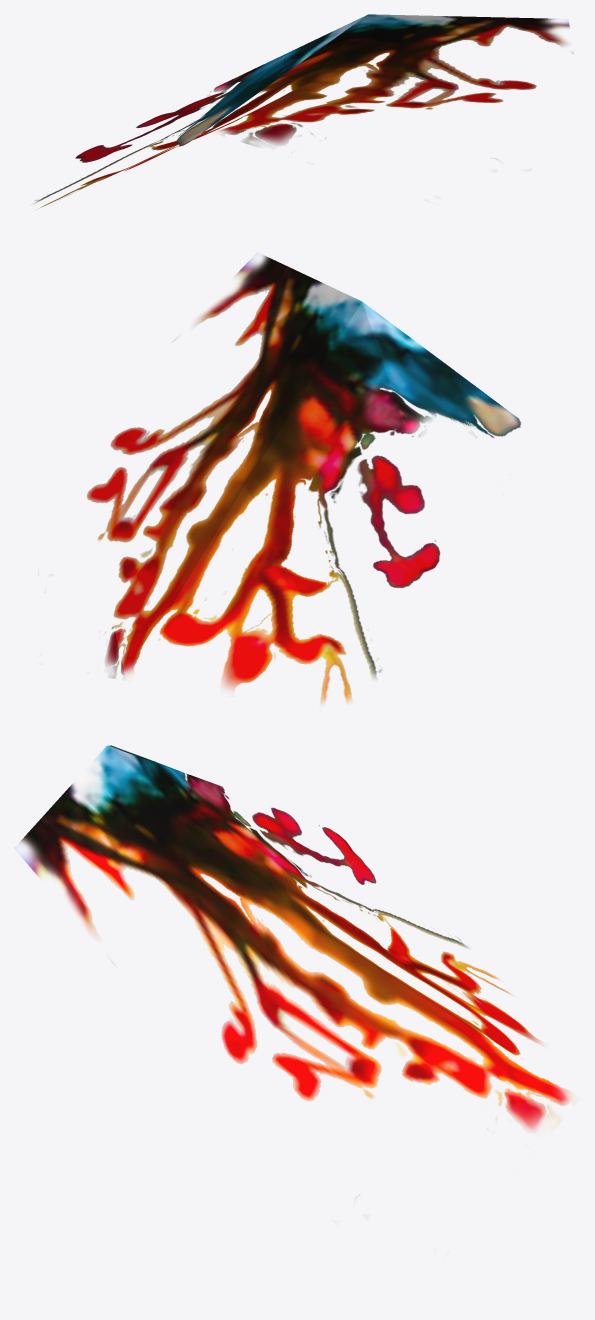
Rendered from Island_2_RedPlant.gltf.
3 views of the same model, one above another, from view 1: azimuth 30°, elevation 25°; view 2: azimuth 150°, elevation 25°; view 3: azimuth 270°, elevation 25° (orthographic). The views are drawn at different scales.
Visible parts, largest first — view 1: Island_2_RedPlant; view 2: Island_2_RedPlant; view 3: Island_2_RedPlant.
Boxes of the visible parts, left/top/right/bottom form: Island_2_RedPlant: left=33, top=14, right=573, bottom=208; Island_2_RedPlant: left=51, top=255, right=520, bottom=704; Island_2_RedPlant: left=20, top=745, right=573, bottom=1198.
Bounding box in the file's own units: 1.04 × 0.7068 × 0.871.
Materials: 1 (1 with a texture image).
